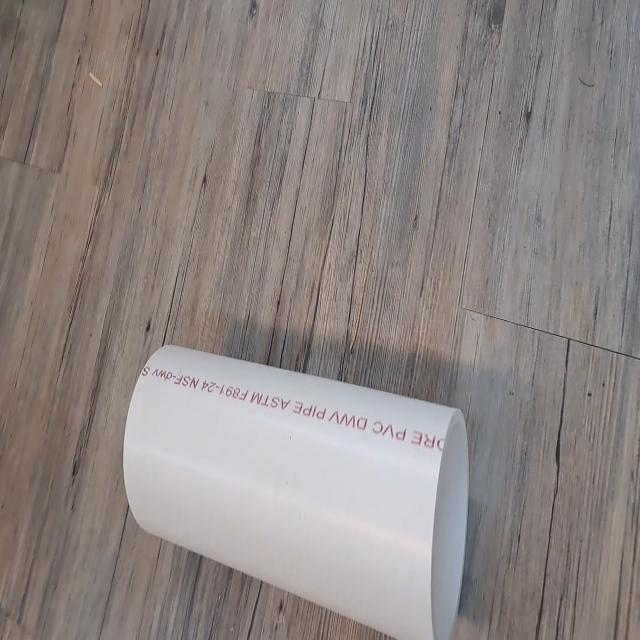CORAL: (115, 330, 476, 640)
